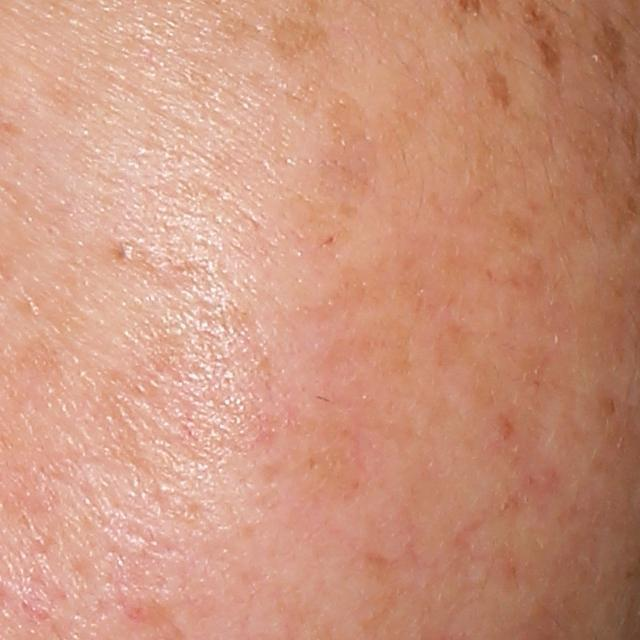melasma: (587, 11, 637, 91), (261, 20, 335, 56)
